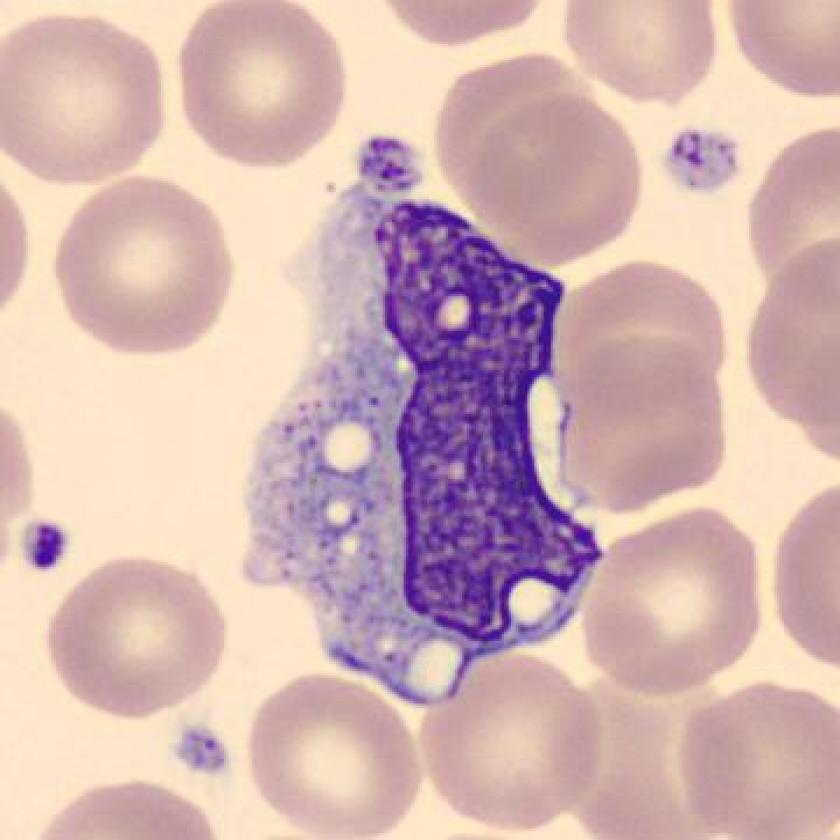monocyte: (225, 149, 608, 728)
